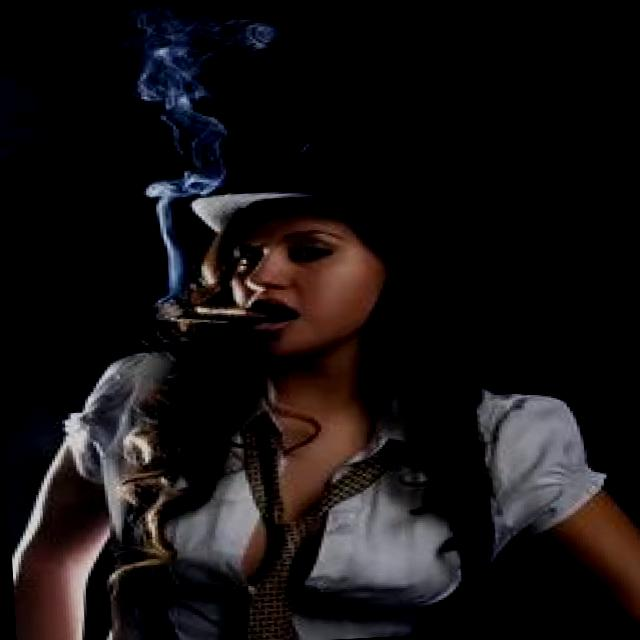smoke: (149, 288, 292, 338)
